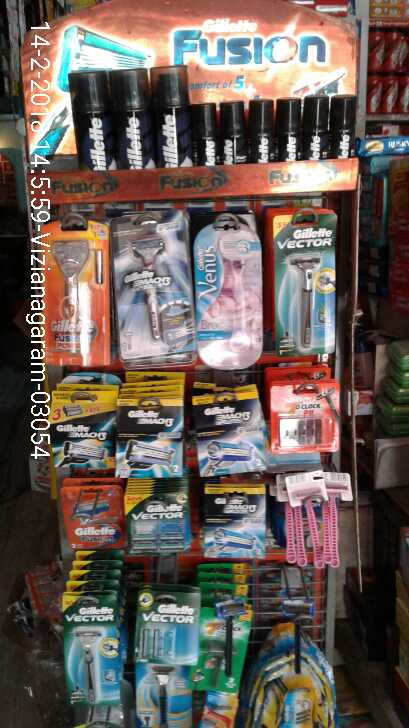beauty: (194, 216, 269, 364), (116, 209, 188, 362), (43, 229, 115, 364), (273, 224, 342, 364), (43, 380, 118, 479), (187, 397, 271, 481), (196, 597, 262, 695), (268, 375, 344, 452), (67, 604, 118, 706), (204, 487, 274, 558), (116, 403, 184, 474), (136, 586, 198, 663), (126, 487, 194, 556), (67, 74, 111, 173), (148, 68, 193, 164), (112, 62, 151, 166), (275, 585, 315, 674), (185, 98, 223, 165), (325, 89, 356, 163), (215, 97, 247, 165), (298, 92, 331, 157), (246, 95, 274, 163), (272, 96, 300, 160)
